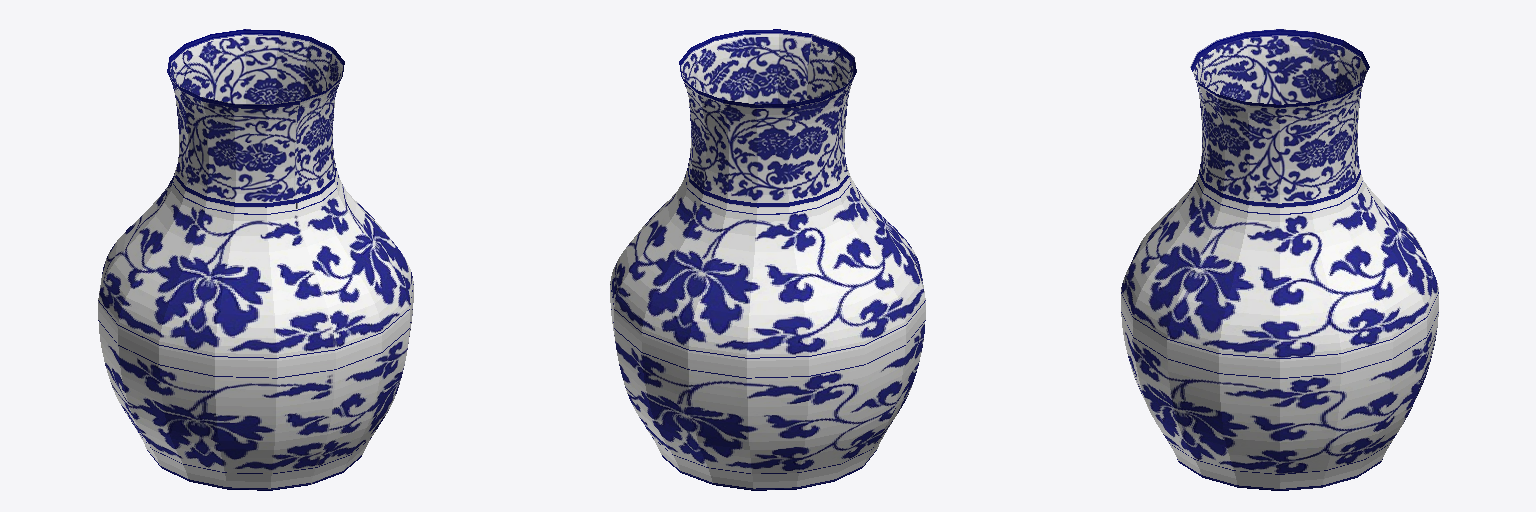
3 renders of one model, left to right at view 1: azimuth 30°, elevation 25°; view 2: azimuth 150°, elevation 25°; view 3: azimuth 270°, elevation 25°, orthographic.
Visible parts, largest first — view 1: Line01; view 2: Line01; view 3: Line01.
Boxes of the visible parts, x1,y1,x2,y2 form: Line01: [98, 29, 413, 490]; Line01: [610, 29, 925, 490]; Line01: [1121, 29, 1438, 490].
Size of the model in its own units: 91.22 by 119 by 91.22.
1 materials, 1 textured.